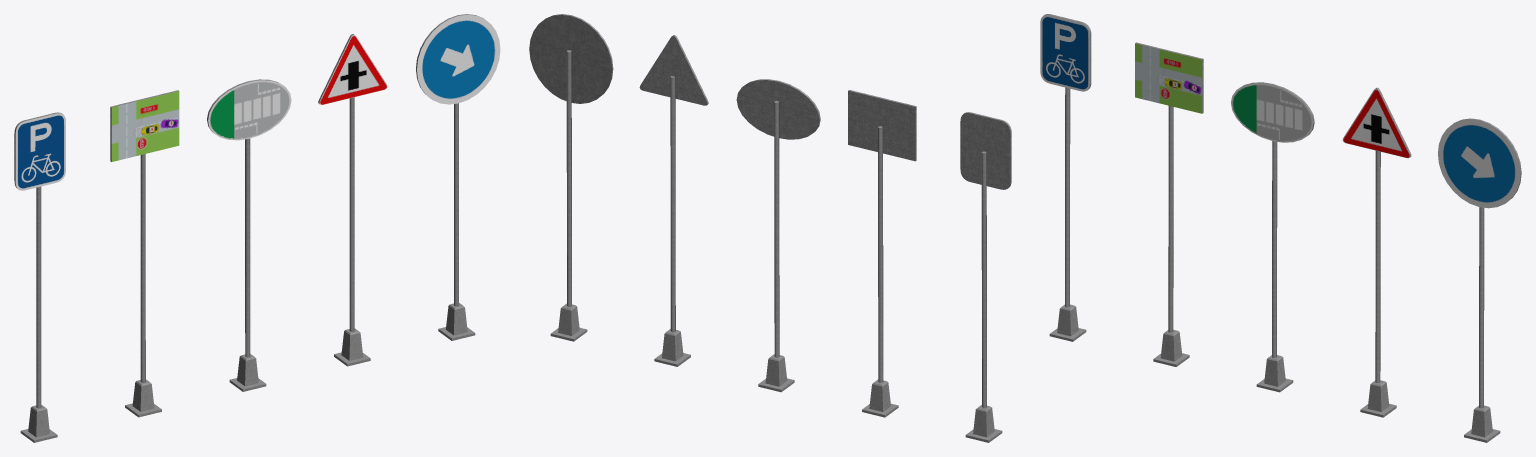
Rendered from Sign_Boards (1).fbx.
3 views of the same model, side by side, from view 1: azimuth 30°, elevation 25°; view 2: azimuth 150°, elevation 25°; view 3: azimuth 330°, elevation 25° (orthographic).
Parts seen in each view (by area): view 1: SignBoard_5, SignBoard_3, SignBoard_2, SignBoard_4, SignBoard_1; view 2: SignBoard_5, SignBoard_3, SignBoard_2, SignBoard_4, SignBoard_1; view 3: SignBoard_5, SignBoard_3, SignBoard_2, SignBoard_4, SignBoard_1.
Part boxes in pixels (bbox=[...]): SignBoard_5: bbox=[416, 14, 500, 340]; SignBoard_3: bbox=[110, 90, 179, 417]; SignBoard_2: bbox=[207, 79, 291, 391]; SignBoard_4: bbox=[14, 112, 65, 442]; SignBoard_1: bbox=[318, 34, 387, 366]; SignBoard_5: bbox=[529, 14, 613, 341]; SignBoard_3: bbox=[848, 90, 916, 417]; SignBoard_2: bbox=[736, 79, 820, 392]; SignBoard_4: bbox=[960, 112, 1011, 442]; SignBoard_1: bbox=[639, 35, 708, 366]; SignBoard_5: bbox=[1438, 118, 1521, 442]; SignBoard_3: bbox=[1135, 42, 1203, 366]; SignBoard_2: bbox=[1231, 82, 1314, 392]; SignBoard_4: bbox=[1040, 14, 1091, 341]; SignBoard_1: bbox=[1342, 87, 1411, 417].
Bounding box in the file's own units: 183 × 117 × 8.8.
